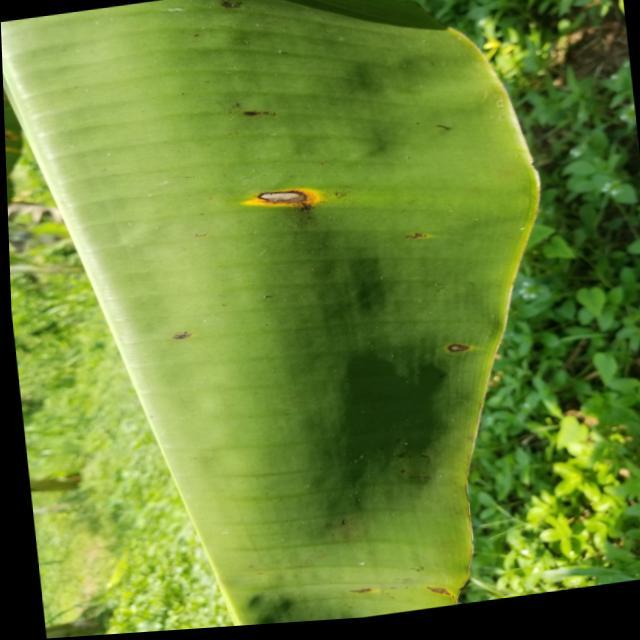Early_rust: (190, 145, 340, 238), (435, 299, 486, 376), (161, 318, 215, 363)
